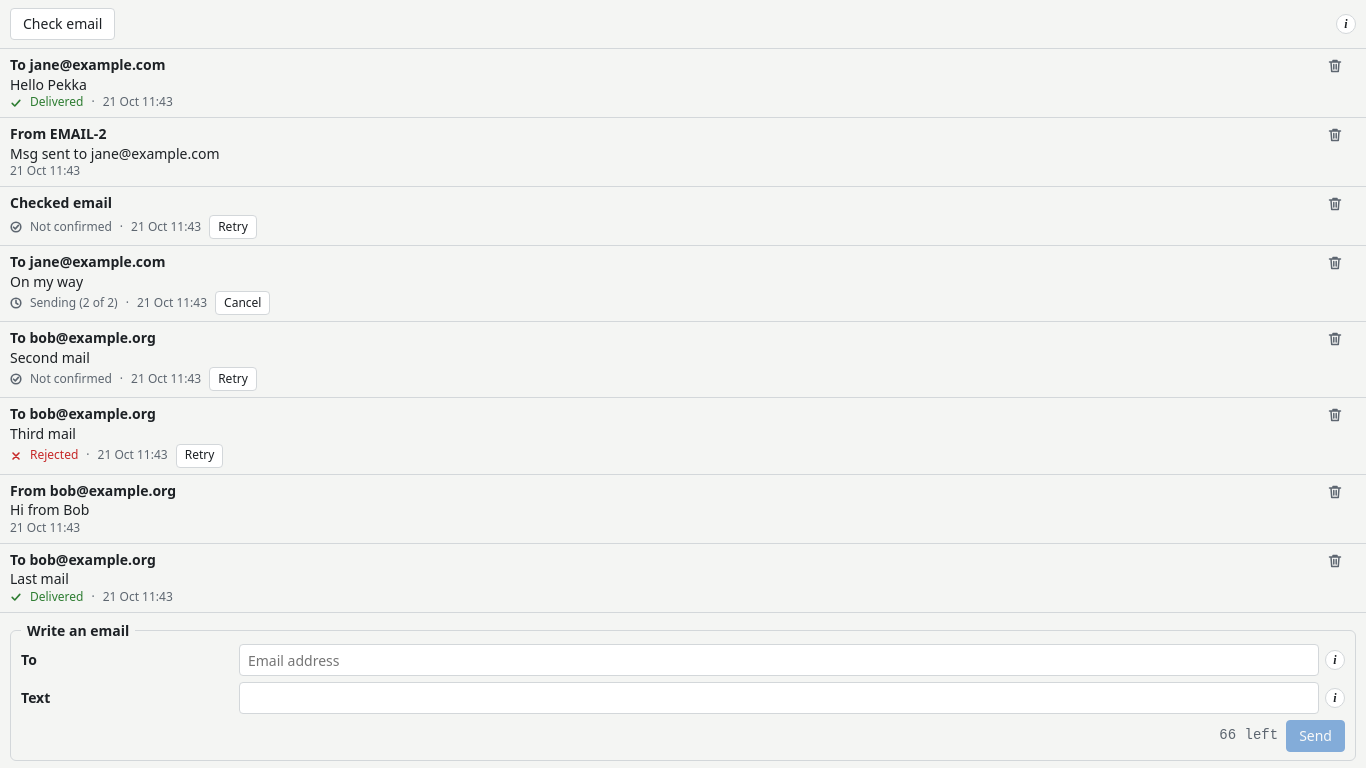
Test case: EmailPane: the top › explains in the (i), in two short sentences, how mail goes and what Check email does
Click the 1st button with class "info-toggle": (1346, 24) [1336, 14, 1356, 34]
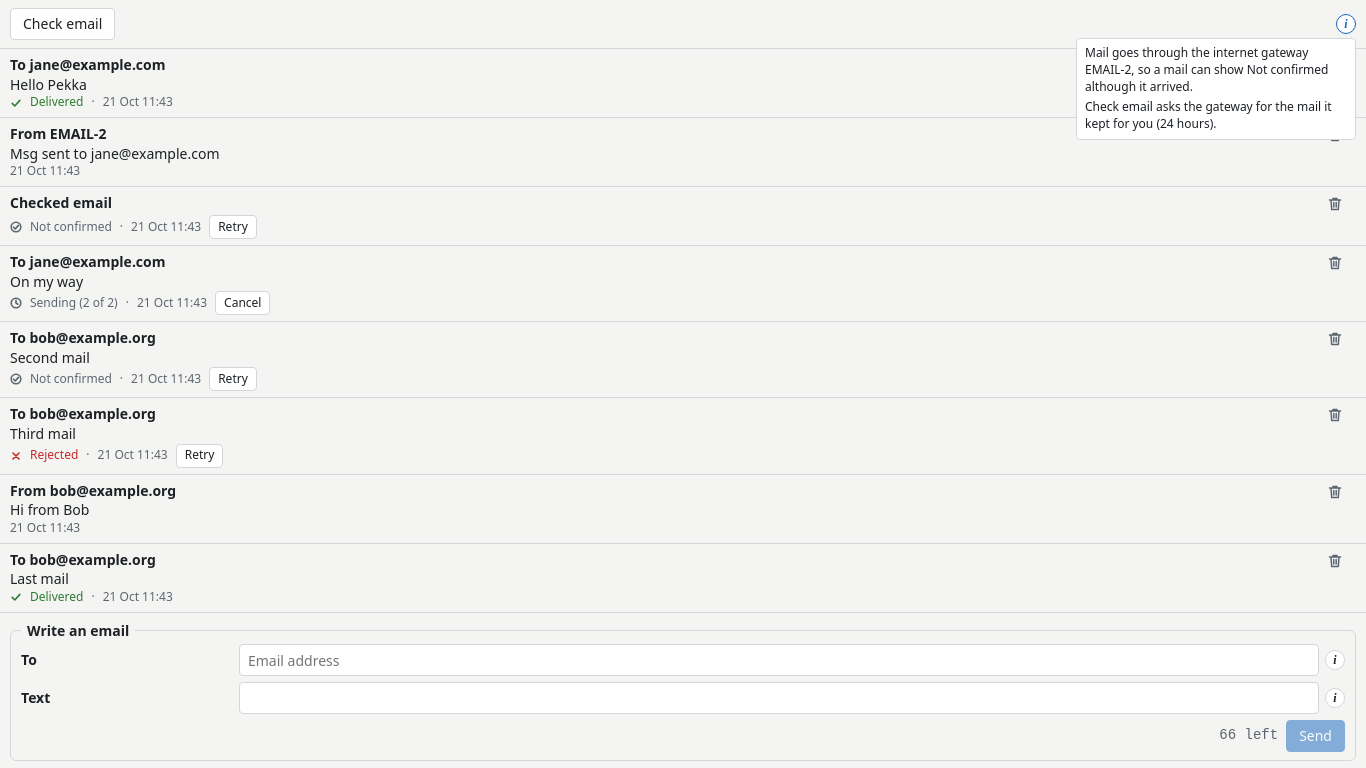
Now the elements with class "info-line" read "Mail goes through the internet gateway EMAIL-2, so a mail can show Not confirmed although it arrived.", "Check email asks the gateway for the mail it kept for you (24 hours).", in this order, box [1085, 45, 1347, 95]; [1085, 99, 1347, 133]
